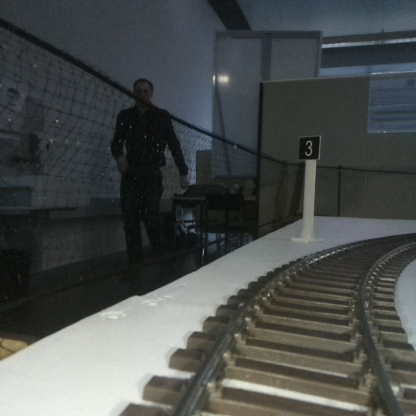black-info-3: (298, 136, 319, 242)
